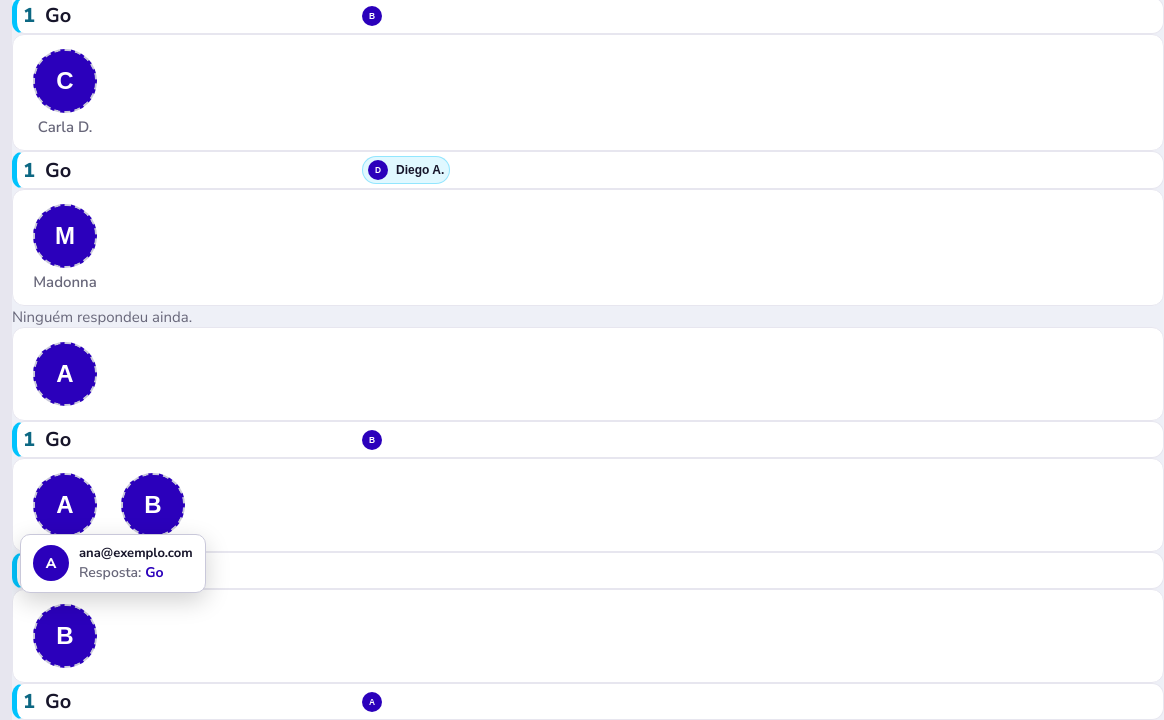
Test: PresentationStage › com hoverHints e zoneAll, o tooltip de zona lista os membros da resposta (revelados e pendentes)
This screenshot has width=1164, height=720.
(page scrolled)
Hover over the 4th text "Go" at [47, 701], box [23,688,71,714]
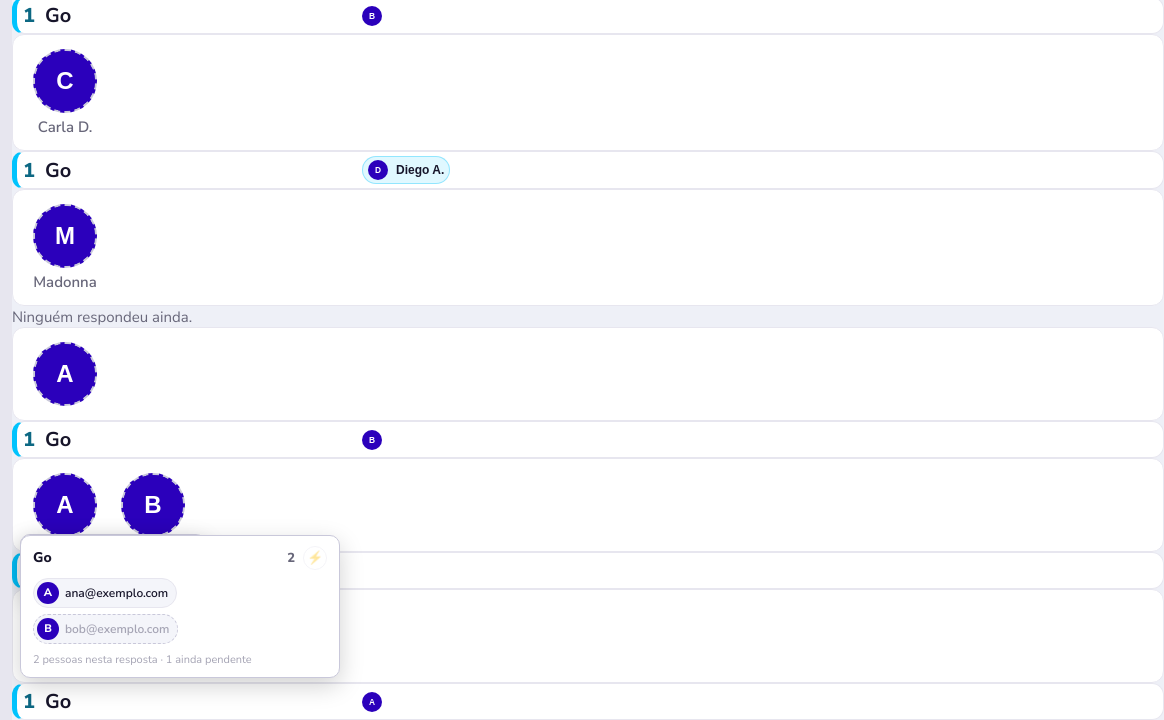
Expected: the text "2 pessoas nesta resposta · 1 ainda pendente" is shown, [33,652,252,666]
Expected: the text "ana@exemplo.com" is shown, [65,584,168,600]
Expected: the text "bob@exemplo.com" is shown, [65,620,169,636]
